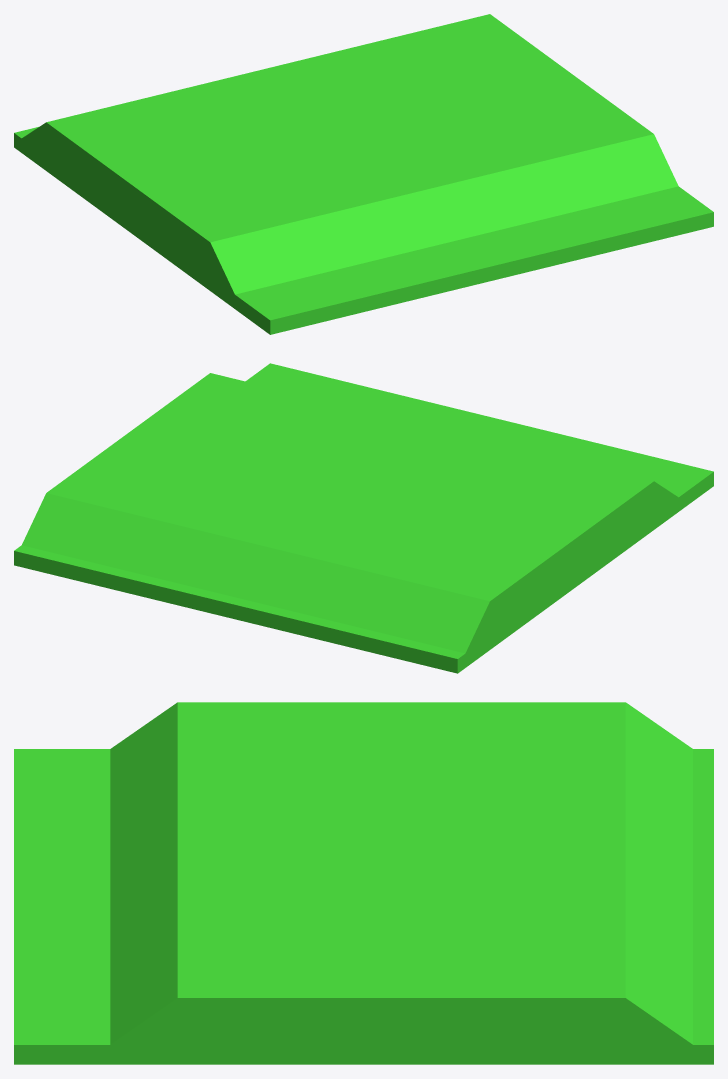
The model's file is Interior_Deco_03_G.fbx.
3 renders of one model, top to bottom at view 1: azimuth 30°, elevation 25°; view 2: azimuth 150°, elevation 25°; view 3: azimuth 270°, elevation 25°, orthographic. The views are drawn at different scales.
Parts seen in each view (by area): view 1: Interior_Deco_03_G; view 2: Interior_Deco_03_G; view 3: Interior_Deco_03_G.
Boxes of the visible parts, x1,y1,x2,y2 form: Interior_Deco_03_G: (14,14,713,334); Interior_Deco_03_G: (14,363,713,673); Interior_Deco_03_G: (14,702,713,1064).
Size of the model in its own units: 457 by 48.02 by 457.
